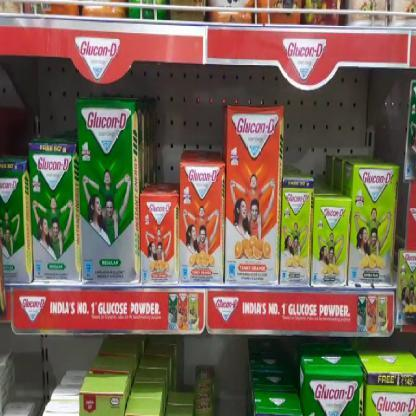Glucon D Nimbu Pani 1-KG: (350, 166, 396, 288)
Glucon D Regular 1-KG: (80, 101, 135, 287), (28, 140, 78, 286)
Glucon D Tangy orange 1-KG: (226, 107, 282, 288), (182, 160, 226, 289)
